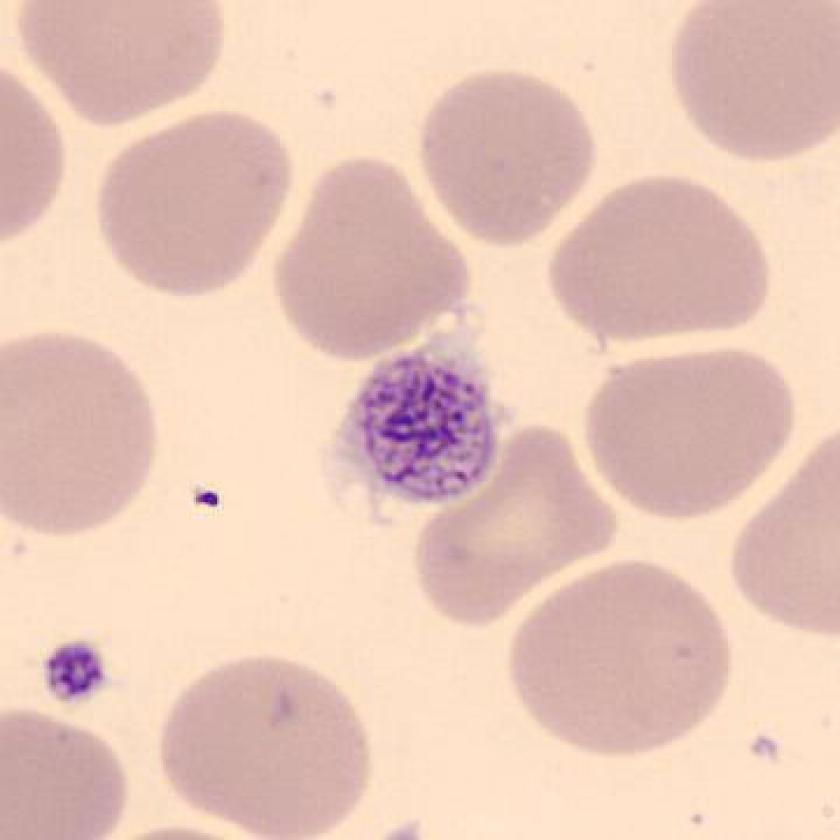platelets: (335, 341, 512, 510), (38, 624, 118, 719)
